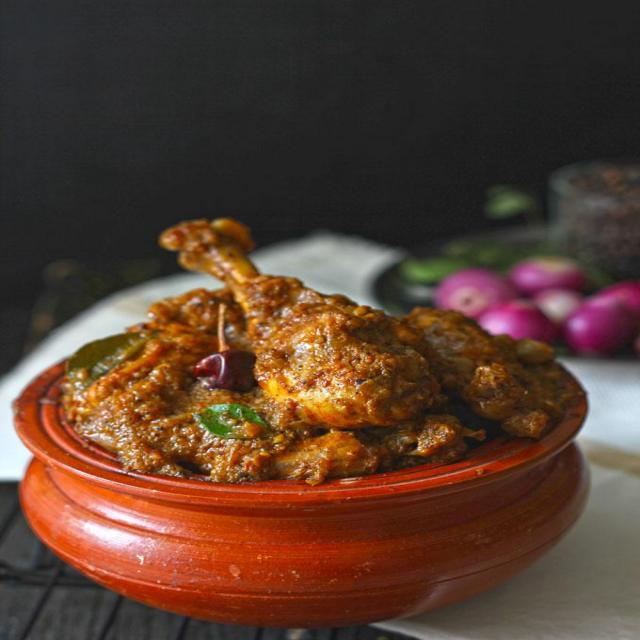chicken: (101, 234, 541, 470)
